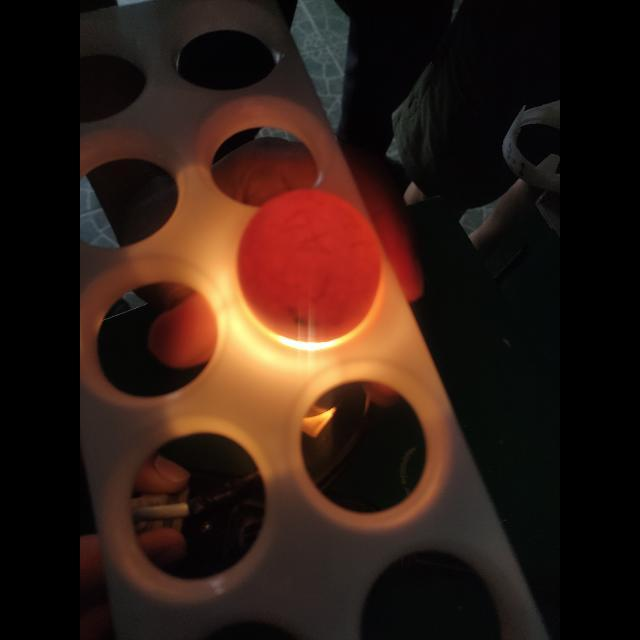Infertile: (236, 186, 382, 344)
